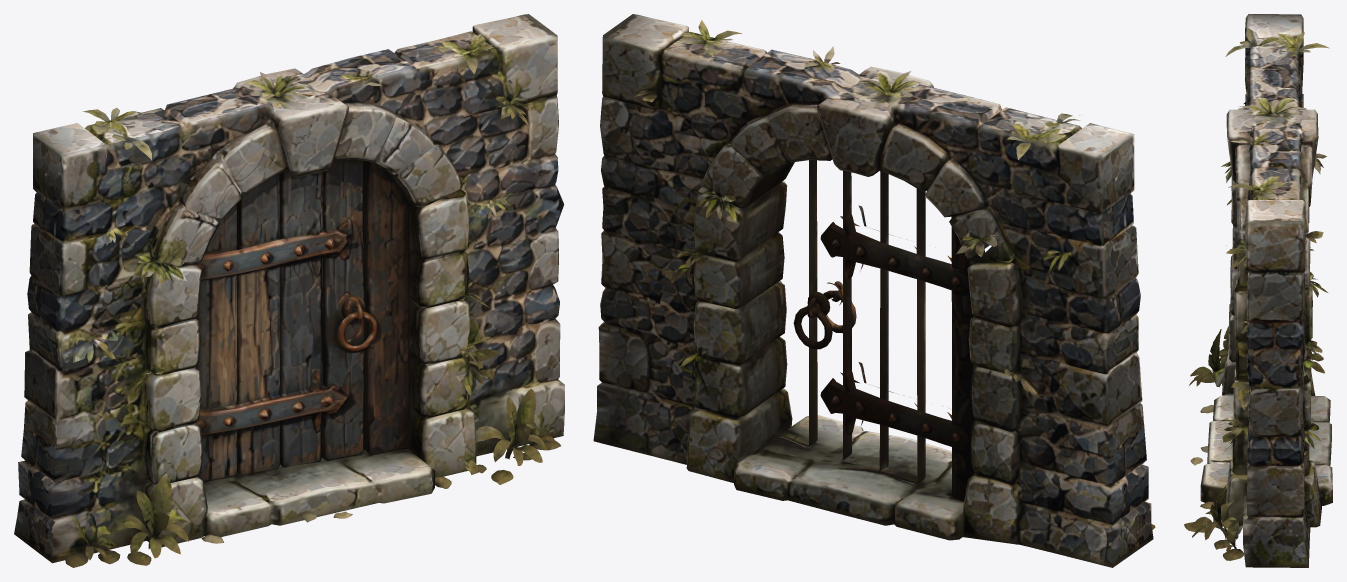
File: act1-a21-1-barrow-door.glb
The picture shows the model from 3 angles, left to right: view 1: azimuth 30°, elevation 25°; view 2: azimuth 150°, elevation 25°; view 3: azimuth 270°, elevation 25°; orthographic projection. The views are drawn at different scales.
Parts seen in each view (by area): view 1: act1-a21-1-barrow-door; view 2: act1-a21-1-barrow-door; view 3: act1-a21-1-barrow-door.
Part boxes in pixels (<box>): act1-a21-1-barrow-door: <box>14,14,564,567</box>; act1-a21-1-barrow-door: <box>593,14,1155,567</box>; act1-a21-1-barrow-door: <box>1184,14,1332,567</box>.
Size of the model in its own units: 3.7 by 2.8 by 1.07.
Materials: 1 (1 with a texture image).
